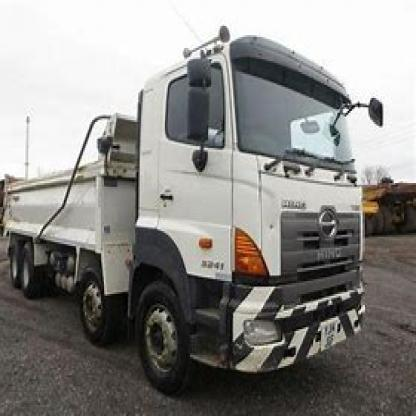dump_truck: (4, 22, 370, 392)
